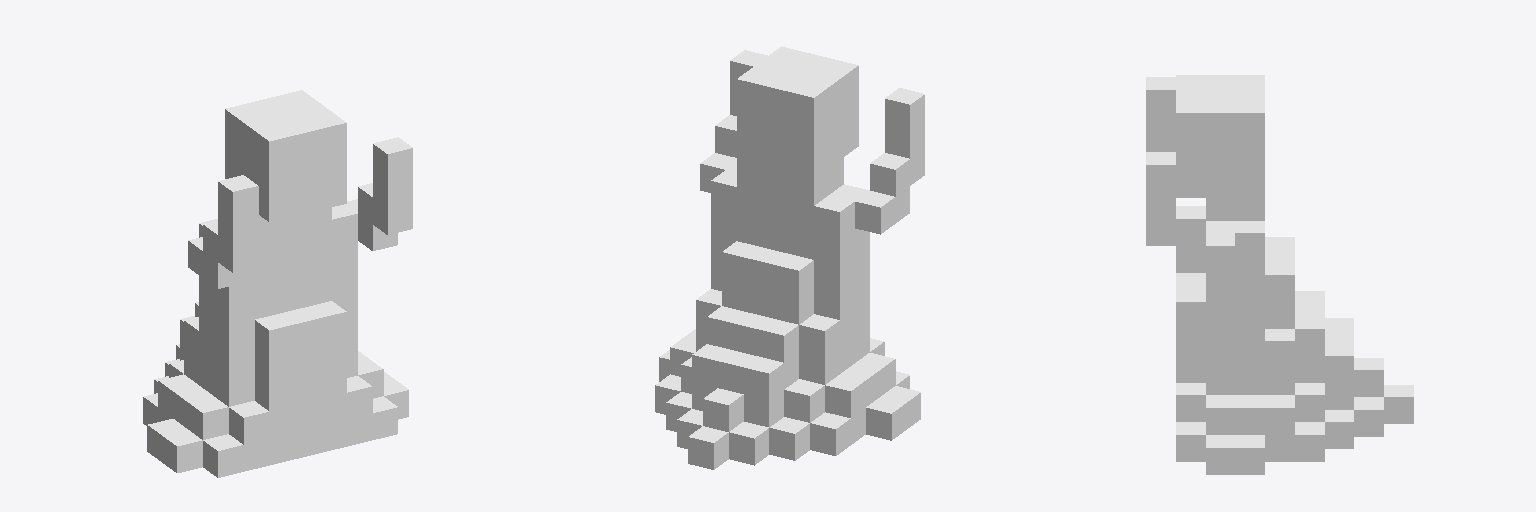
File: attack_1.obj
3 renders of one model, left to right at view 1: azimuth 30°, elevation 25°; view 2: azimuth 150°, elevation 25°; view 3: azimuth 270°, elevation 25°, orthographic.
Size of the model in its own units: 9 by 12 by 9.